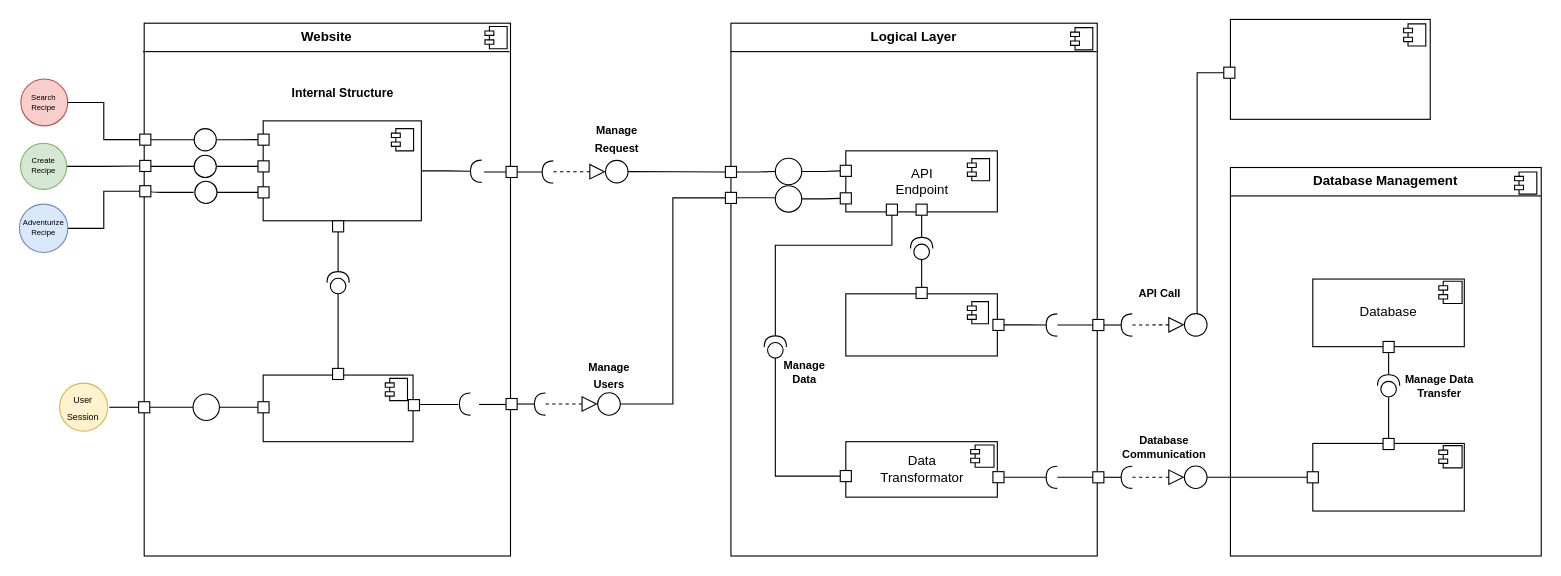
Image size: 1561x576. Some labels were removed from this diagram. The shapes that lost their labels are listed below. From the top down, each one's centre as x and y in pixels, then its label:
At (1329,68): "OpenAI - ChatGPT Adventurize Recipe".
At (341,170): "User Request Handling".
At (921,324): "Adventurize Function".
At (337,408): "UserManagment".
At (1388,476): "Data Access Layer".
